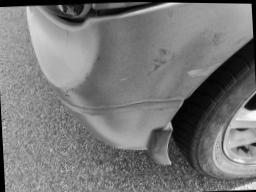Bumper: (27, 8, 108, 95)
